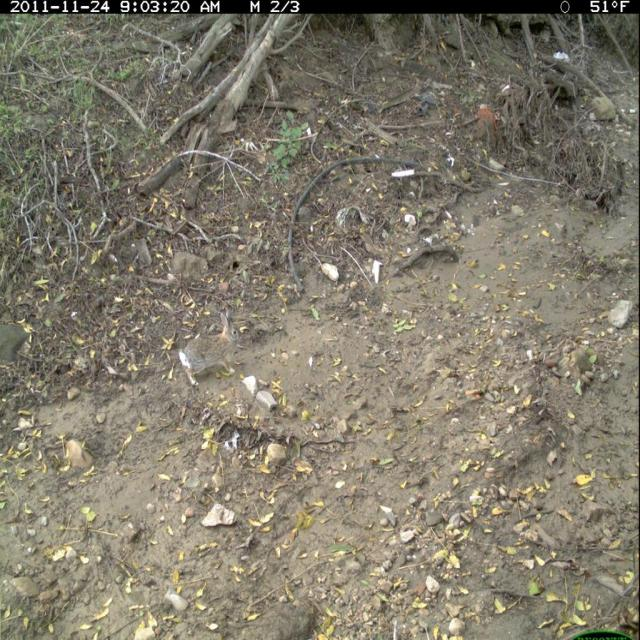rabbit: (175, 300, 245, 390)
